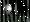person: (8, 5, 13, 14)
